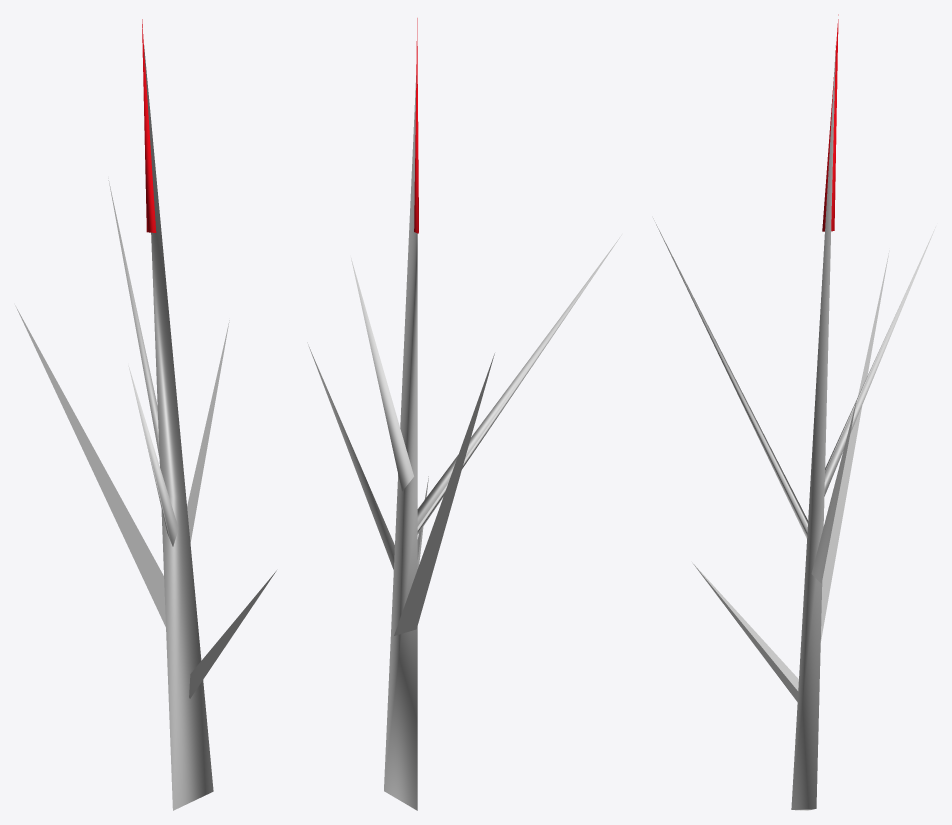
File: garlicPlant.glb
3 renders of one model, left to right at view 1: azimuth 30°, elevation 25°; view 2: azimuth 150°, elevation 25°; view 3: azimuth 270°, elevation 25°, orthographic. The views are drawn at different scales.
Parts seen in each view (by area): view 1: Icosphere; view 2: Icosphere; view 3: Icosphere.
Part boxes in pixels (box(x1,y1,x2,y2)): Icosphere: box(15, 19, 276, 810); Icosphere: box(307, 18, 621, 810); Icosphere: box(653, 14, 935, 810).
Size of the model in its own units: 0.309 by 1.14 by 0.3727.
